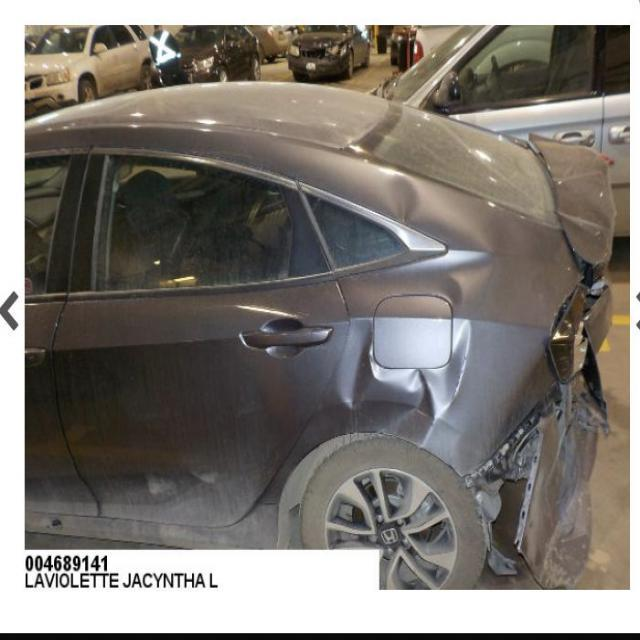quaterpanel-dent: (327, 251, 545, 476)
